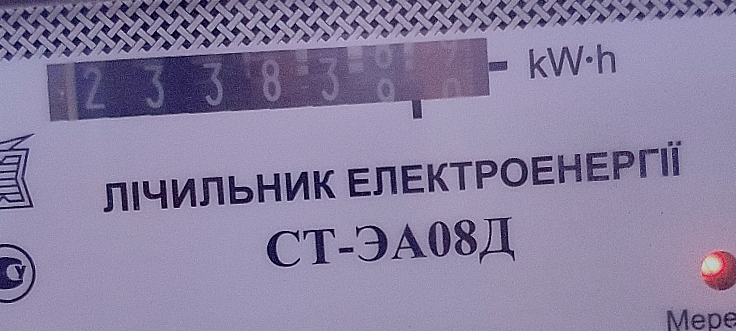0: (438, 73, 465, 99)
2: (78, 62, 108, 112)
3: (138, 60, 169, 111), (315, 52, 343, 102), (200, 58, 227, 109)
8: (257, 55, 284, 103), (369, 42, 398, 70)
9: (371, 73, 399, 104), (436, 38, 462, 67)
screen: (33, 23, 509, 145)
